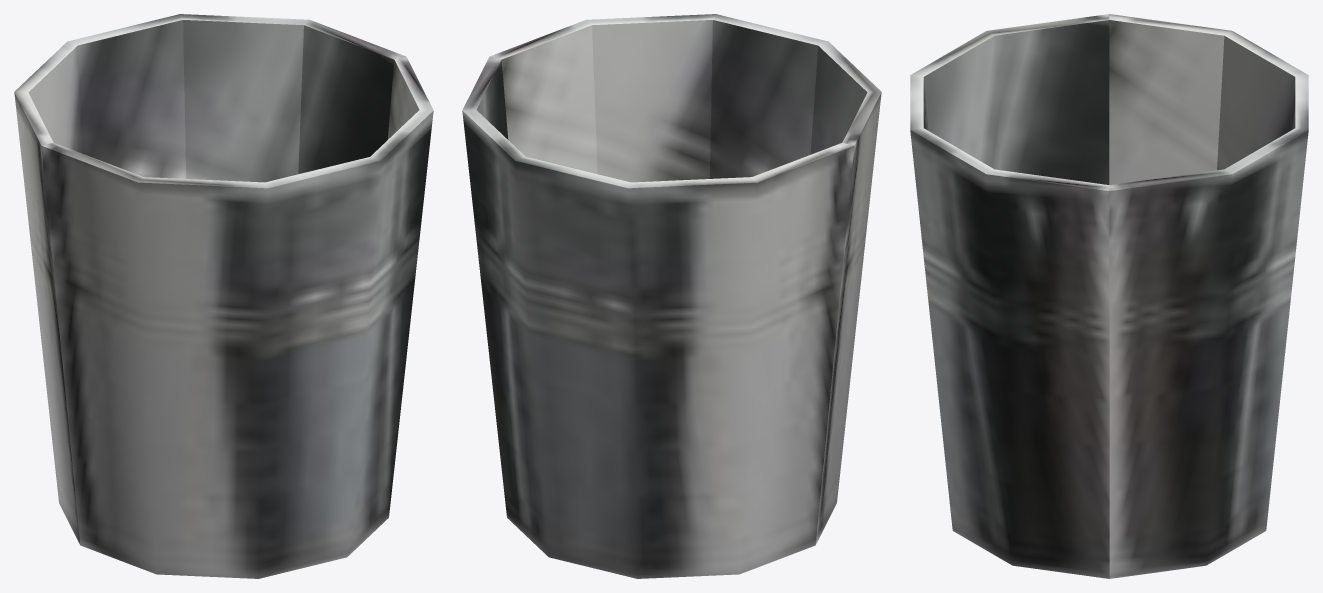
File: bucket.FBX
3 renders of one model, left to right at view 1: azimuth 30°, elevation 25°; view 2: azimuth 150°, elevation 25°; view 3: azimuth 270°, elevation 25°, orthographic.
Visible parts, largest first — view 1: bucket; view 2: bucket; view 3: bucket.
Part boxes in pixels (box(x1,y1,x2,y2)): bucket: box(14, 14, 433, 578); bucket: box(462, 14, 881, 578); bucket: box(910, 14, 1308, 578).
Size of the model in its own units: 22.4 by 23.99 by 21.3.
